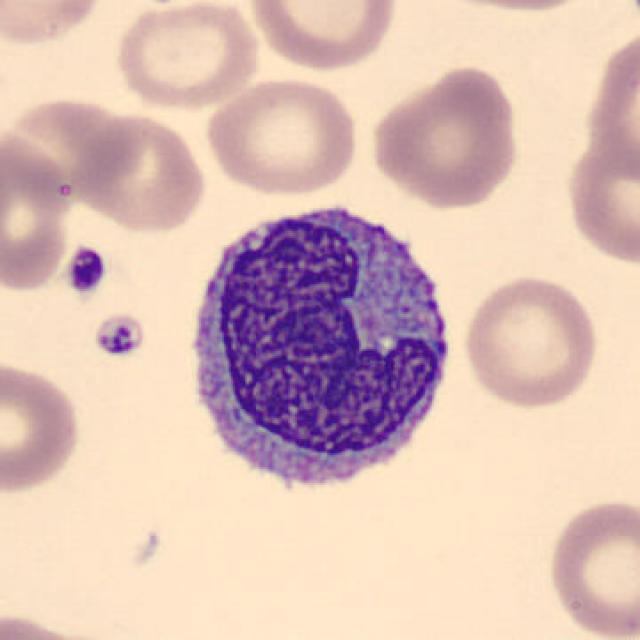Monocyte: (175, 188, 468, 510)
Platelets: (89, 310, 147, 362), (62, 243, 110, 298)
RBC: (366, 62, 523, 210), (459, 270, 601, 411), (201, 74, 361, 198), (71, 110, 210, 236), (110, 0, 263, 113), (542, 492, 638, 640), (0, 127, 80, 294), (0, 357, 85, 495), (244, 0, 402, 74), (560, 128, 638, 270), (583, 37, 640, 189), (0, 0, 108, 49), (2, 608, 132, 640), (414, 0, 603, 16), (617, 0, 640, 41)
